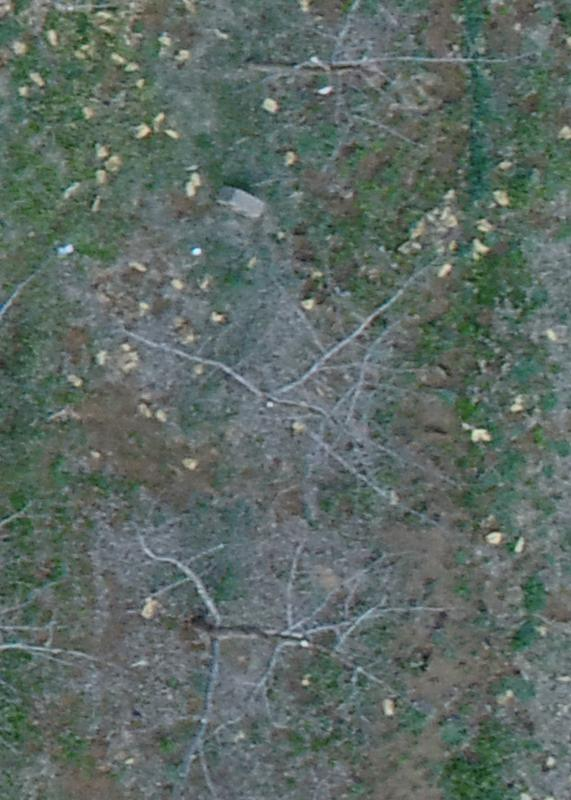apple: (74, 251, 461, 523), (106, 506, 438, 785), (198, 10, 511, 188)
